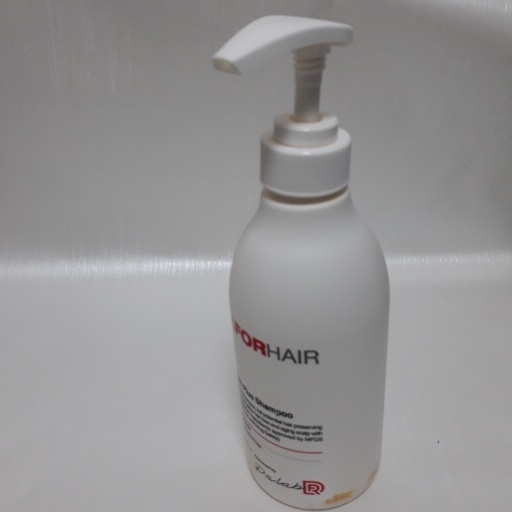Plastic_3: (208, 12, 390, 510)
